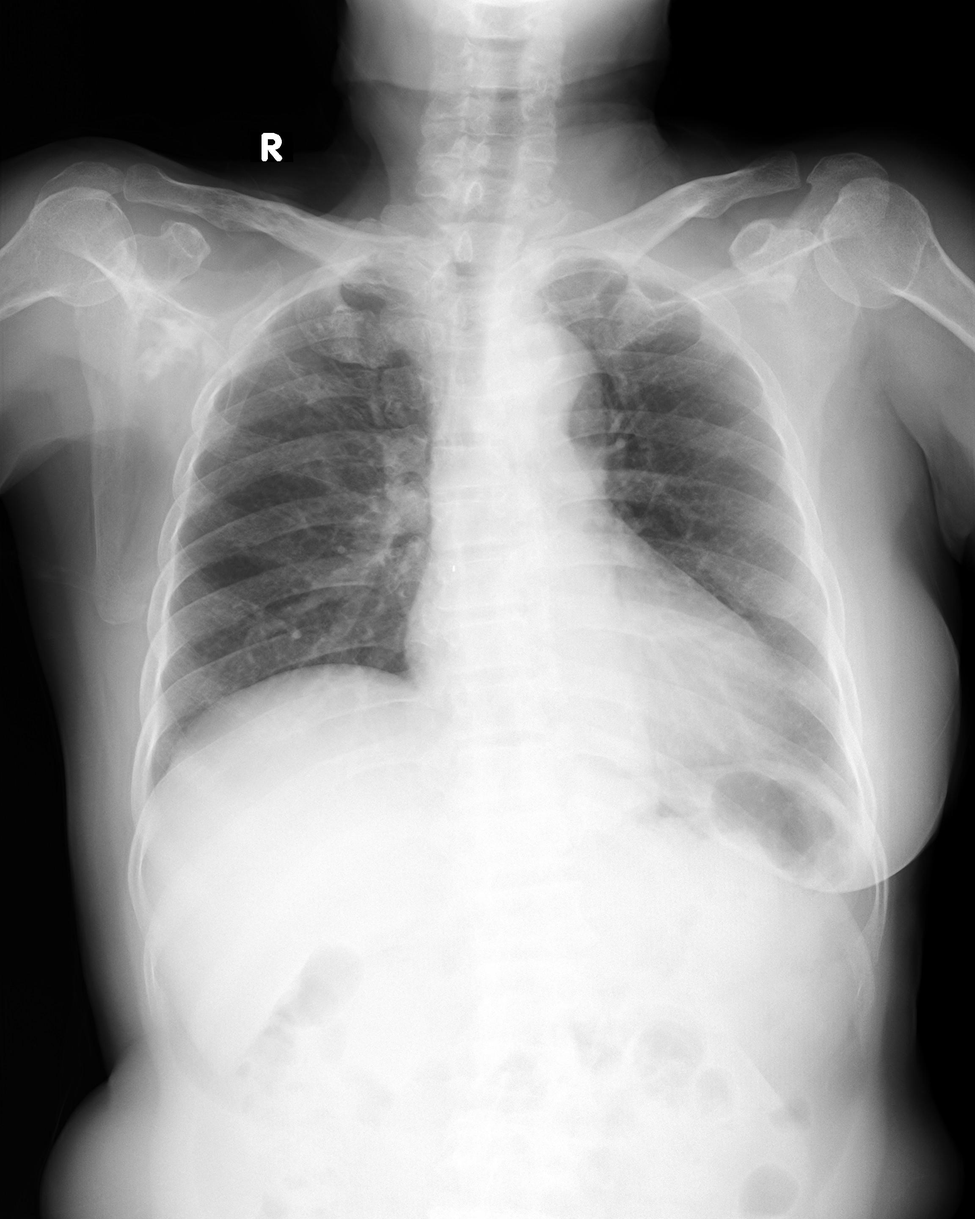Aortic enlargement: (498, 323, 609, 441)
Cardiomegaly: (399, 601, 775, 704)
